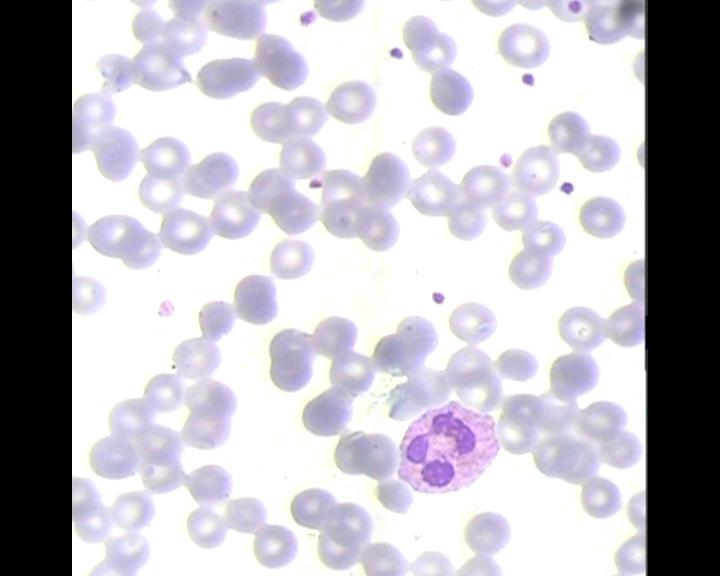neut: (392, 398, 503, 495)
